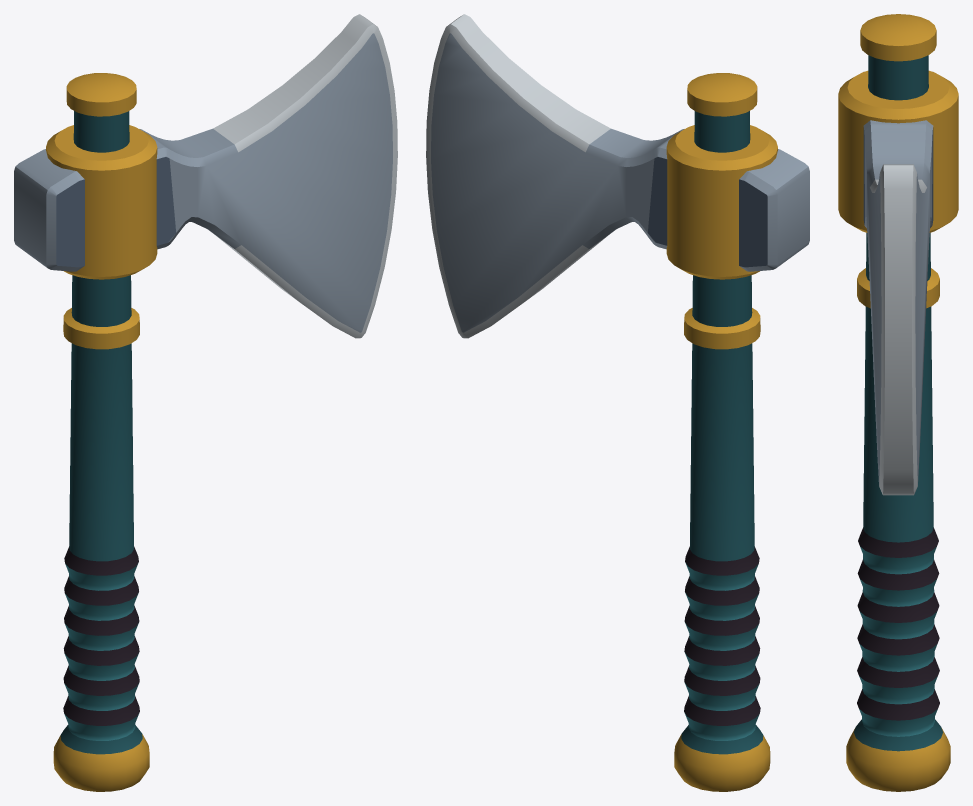
Rendered from Axe_02.glb.
3 renders of one model, left to right at view 1: azimuth 30°, elevation 25°; view 2: azimuth 150°, elevation 25°; view 3: azimuth 270°, elevation 25°, orthographic. The views are drawn at different scales.
Visible parts, largest first — view 1: Axe_02; view 2: Axe_02; view 3: Axe_02.
Boxes of the visible parts, x1,y1,x2,y2 form: Axe_02: [14, 14, 397, 791]; Axe_02: [426, 14, 809, 791]; Axe_02: [838, 14, 958, 791].
Size of the model in its own units: 2.42 by 4.42 by 0.646.
